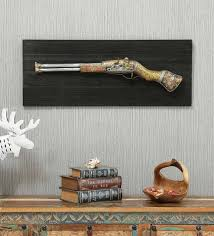gun: (32, 53, 184, 96)
